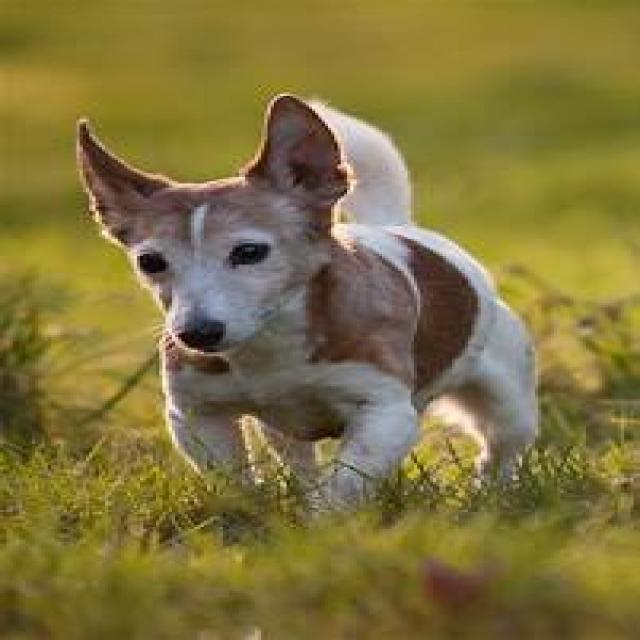dog: (73, 94, 541, 516)
